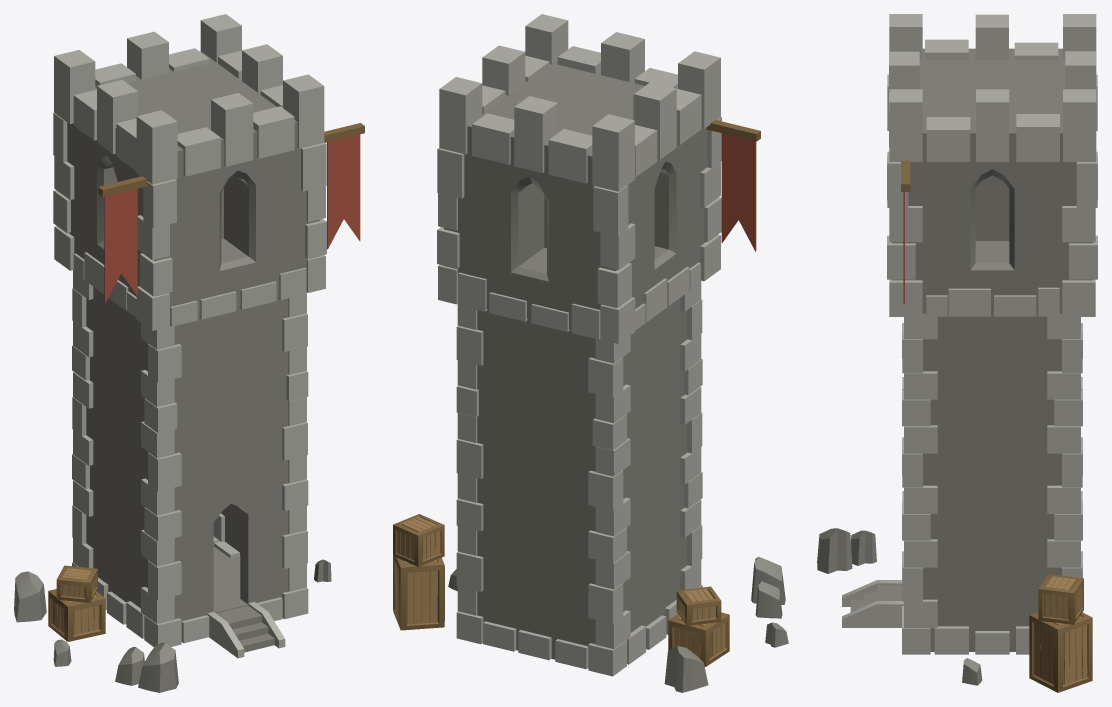
File: stone-tower.glb
The picture shows the model from 3 angles, left to right: view 1: azimuth 30°, elevation 25°; view 2: azimuth 150°, elevation 25°; view 3: azimuth 270°, elevation 25°; orthographic projection. The views are drawn at different scales.
Parts seen in each view (by area): view 1: WatchTower_SecondAge_Level2; view 2: WatchTower_SecondAge_Level2; view 3: WatchTower_SecondAge_Level2.
Part boxes in pixels (left/top/right/bottom): WatchTower_SecondAge_Level2: left=14, top=14, right=364, bottom=692; WatchTower_SecondAge_Level2: left=393, top=14, right=788, bottom=692; WatchTower_SecondAge_Level2: left=817, top=14, right=1097, bottom=692.
Size of the model in its own units: 0.8385 by 1.36 by 0.6139.
Materials: 1 (1 with a texture image).
